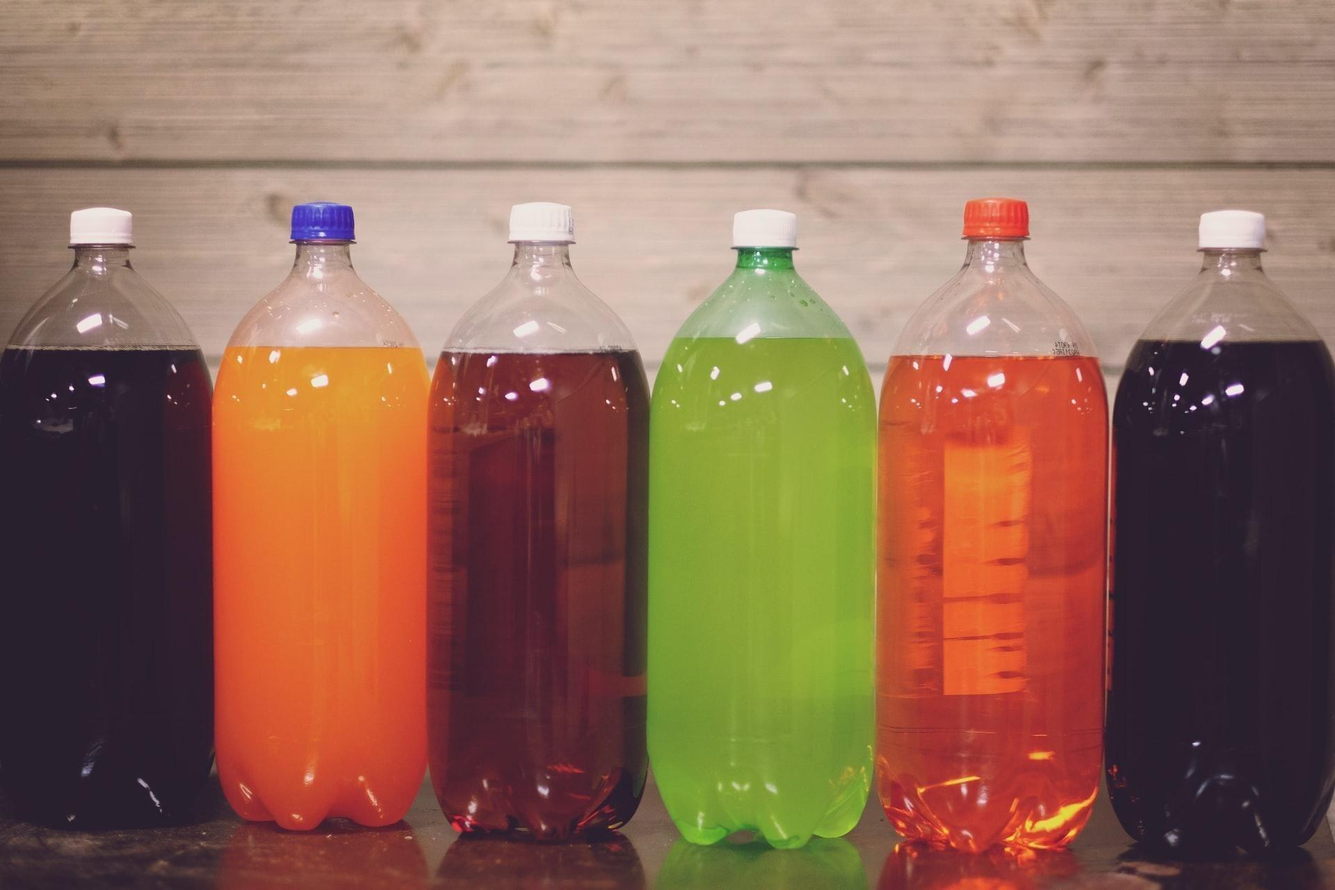bottle-plastic: (877, 198, 1116, 868), (642, 204, 877, 846), (1108, 204, 1334, 867), (211, 197, 430, 836), (432, 199, 650, 837), (1, 201, 218, 839)
